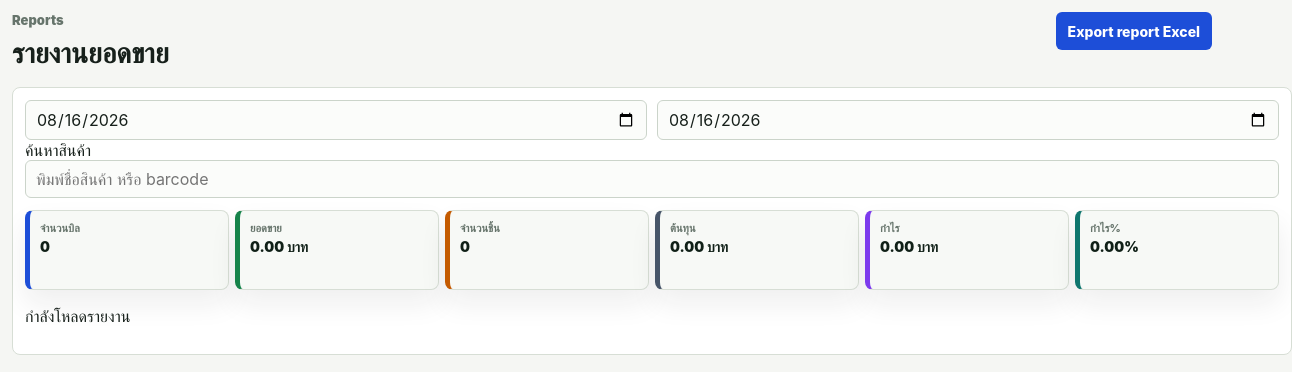
Test case: backend connected report pages › shows the not-found message when no product matches the search
This screenshot has width=1292, height=372.
Type "XYZ-NOT-FOUND" into the dropdown named "ค้นหาสินค้าในรายงาน" at (652, 179), box [25, 160, 1279, 198]
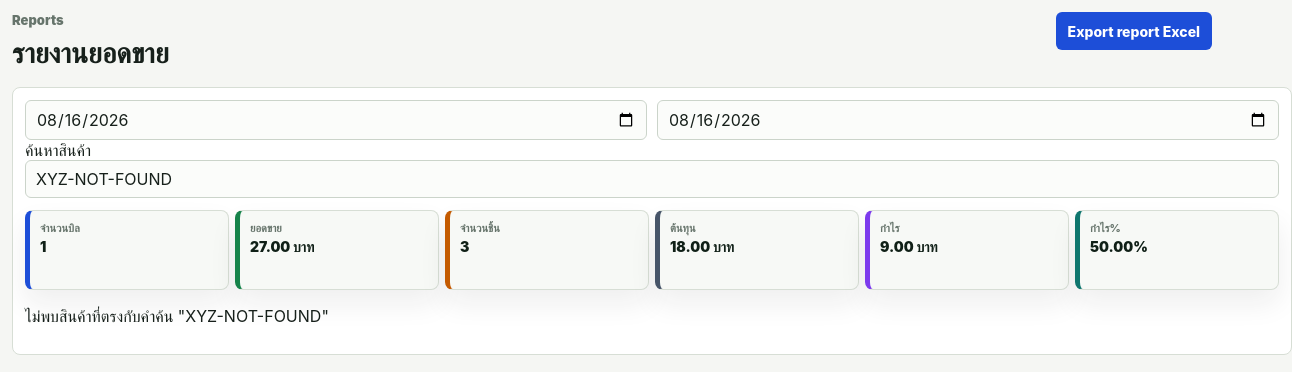
Expected: the text "ไม่พบสินค้าที่ตรงกับคำค้น \"XYZ-NOT-FOUND\"" is shown, [25, 306, 329, 326]
